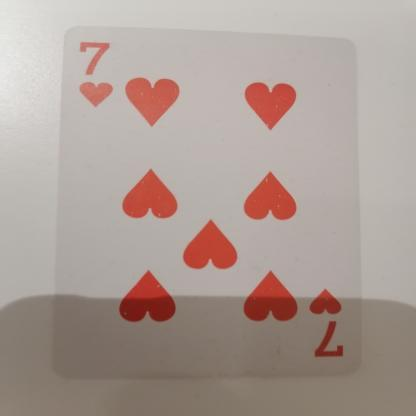7H: (296, 275, 364, 372), (64, 35, 120, 116)
